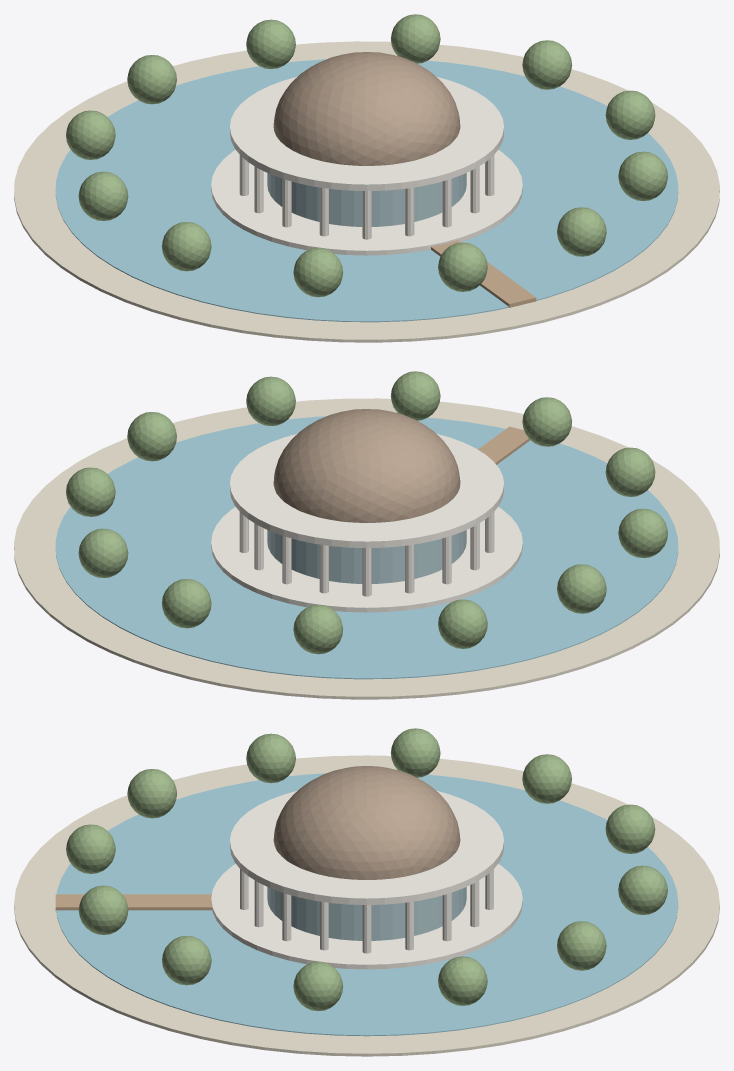
Rendered from oasis-pavilion.glb.
3 renders of one model, top to bottom at view 1: azimuth 30°, elevation 25°; view 2: azimuth 150°, elevation 25°; view 3: azimuth 270°, elevation 25°, orthographic.
Visible parts, largest first — view 1: oasis-pavilion-1, oasis-pavilion-0, oasis-pavilion-23, oasis-pavilion-22, oasis-pavilion-2, oasis-pavilion-3, oasis-pavilion-27, oasis-pavilion-32, oasis-pavilion-28, oasis-pavilion-36, oasis-pavilion-31, oasis-pavilion-34 (+7 smaller); view 2: oasis-pavilion-1, oasis-pavilion-0, oasis-pavilion-23, oasis-pavilion-22, oasis-pavilion-2, oasis-pavilion-3, oasis-pavilion-31, oasis-pavilion-29, oasis-pavilion-28, oasis-pavilion-32, oasis-pavilion-36, oasis-pavilion-25 (+7 smaller); view 3: oasis-pavilion-1, oasis-pavilion-0, oasis-pavilion-23, oasis-pavilion-22, oasis-pavilion-2, oasis-pavilion-3, oasis-pavilion-32, oasis-pavilion-35, oasis-pavilion-36, oasis-pavilion-27, oasis-pavilion-28, oasis-pavilion-29 (+7 smaller).
Boxes of the visible parts, x1,y1,x2,y2 form: oasis-pavilion-1: (55,59,678,322); oasis-pavilion-0: (14,41,719,342); oasis-pavilion-23: (273,52,460,165); oasis-pavilion-22: (230,76,503,190); oasis-pavilion-2: (211,150,522,255); oasis-pavilion-3: (267,173,466,226); oasis-pavilion-27: (557,207,606,256); oasis-pavilion-32: (66,110,115,159); oasis-pavilion-28: (438,242,487,291); oasis-pavilion-36: (522,40,572,89); oasis-pavilion-31: (78,171,128,220); oasis-pavilion-34: (246,19,295,68); oasis-pavilion-1: (55,416,678,679); oasis-pavilion-0: (14,398,719,699); oasis-pavilion-23: (273,409,460,522); oasis-pavilion-22: (230,433,503,547); oasis-pavilion-2: (211,507,522,612); oasis-pavilion-3: (267,530,466,583); oasis-pavilion-31: (557,564,606,613); oasis-pavilion-29: (605,447,655,496); oasis-pavilion-28: (522,397,572,446); oasis-pavilion-32: (438,599,487,648); oasis-pavilion-36: (66,467,115,516); oasis-pavilion-25: (127,412,176,461); oasis-pavilion-1: (56,773,678,1036); oasis-pavilion-0: (14,755,719,1056); oasis-pavilion-23: (273,766,460,879); oasis-pavilion-22: (230,791,503,904); oasis-pavilion-2: (211,864,522,969); oasis-pavilion-3: (267,887,466,940); oasis-pavilion-32: (522,754,571,803); oasis-pavilion-35: (557,921,606,970); oasis-pavilion-36: (438,956,487,1005); oasis-pavilion-27: (78,885,128,934); oasis-pavilion-28: (66,824,115,873); oasis-pavilion-29: (127,769,176,818).
Size of the model in its own units: 68 by 13.85 by 68.
